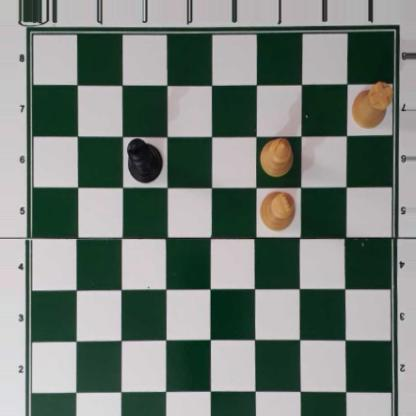black-king: (128, 137, 161, 183)
white-bishop: (261, 136, 292, 177)
white-king: (258, 190, 295, 232)
white-rook: (352, 82, 392, 128)
